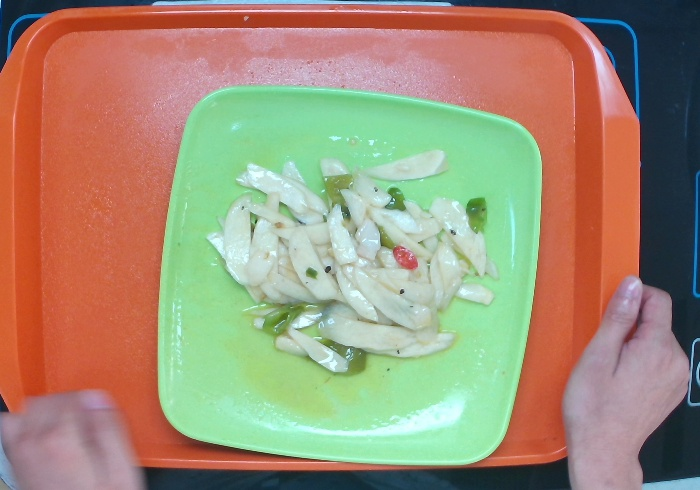ZNLD-Lv_Fang_Pan: (151, 81, 544, 469)
